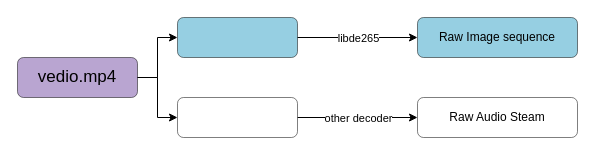
The diagram is 595 pixels wide and 155 high, and some of its shapes have lost their labels. The box of each missing label's shape, as (x1, y1, x2, y2) in pixels:
ACC: (176, 96, 298, 138)
HEVC: (176, 16, 298, 58)
